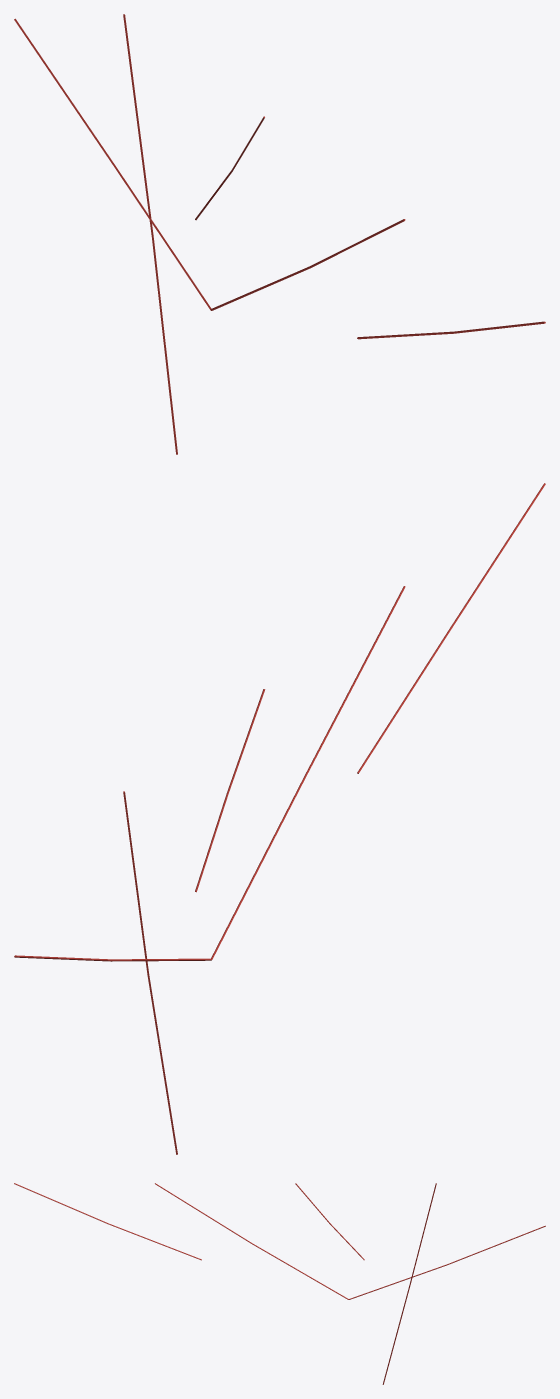
The model's file is SM_HO_BoardString.fbx.
3 views of the same model, one above another, from view 1: azimuth 30°, elevation 25°; view 2: azimuth 150°, elevation 25°; view 3: azimuth 270°, elevation 25° (orthographic). The views are drawn at different scales.
Visible parts, largest first — view 1: SM_HO_BoardString_1; view 2: SM_HO_BoardString_1; view 3: SM_HO_BoardString_1.
Part boxes in pixels (<box>): SM_HO_BoardString_1: <box>14,14,545,454</box>; SM_HO_BoardString_1: <box>14,483,545,1154</box>; SM_HO_BoardString_1: <box>14,1183,545,1384</box>.
Size of the model in its own units: 0.76 by 71.21 by 170.
